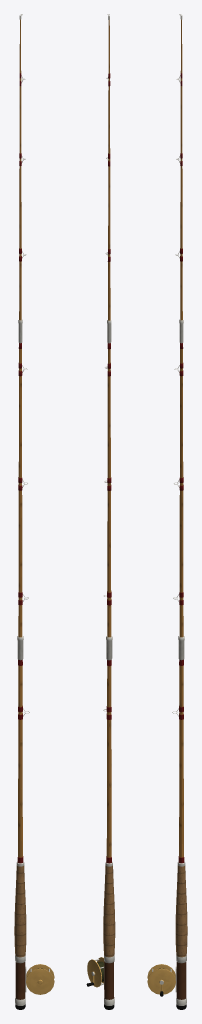
The model's file is fishing_rod.glb.
3 renders of one model, left to right at view 1: azimuth 90°, elevation 25°; view 2: azimuth 210°, elevation 25°; view 3: azimuth 270°, elevation 25°, orthographic.
Parts seen in each view (by area): view 1: Rod_Seg0_mesh, Rod_Reel_mesh, Rod_Seg1_mesh, Rod_Seg2_mesh, Rod_Seg4_mesh, Rod_Seg3_mesh, Rod_Seg5_mesh, Rod_Seg6_mesh, Rod_Seg7_mesh; view 2: Rod_Seg0_mesh, Rod_Seg1_mesh, Rod_Seg2_mesh, Rod_Seg3_mesh, Rod_Reel_mesh, Rod_Seg4_mesh, Rod_Seg5_mesh, Rod_Seg6_mesh, Rod_Seg7_mesh; view 3: Rod_Seg0_mesh, Rod_Reel_mesh, Rod_Seg1_mesh, Rod_Seg2_mesh, Rod_Seg4_mesh, Rod_Seg3_mesh, Rod_Seg5_mesh, Rod_Seg6_mesh, Rod_Seg7_mesh.
Part boxes in pixels (left/top/right/bottom): Rod_Seg0_mesh: left=14, top=713, right=26, bottom=1009; Rod_Reel_mesh: left=25, top=964, right=54, bottom=994; Rod_Seg1_mesh: left=17, top=598, right=29, bottom=719; Rod_Seg2_mesh: left=18, top=484, right=28, bottom=605; Rod_Seg4_mesh: left=18, top=255, right=27, bottom=376; Rod_Seg3_mesh: left=18, top=369, right=27, bottom=490; Rod_Seg5_mesh: left=19, top=159, right=26, bottom=261; Rod_Seg6_mesh: left=19, top=79, right=25, bottom=165; Rod_Seg7_mesh: left=19, top=14, right=25, bottom=85; Rod_Seg0_mesh: left=103, top=713, right=115, bottom=1009; Rod_Seg1_mesh: left=103, top=599, right=112, bottom=719; Rod_Seg2_mesh: left=104, top=484, right=111, bottom=605; Rod_Seg3_mesh: left=104, top=370, right=111, bottom=490; Rod_Reel_mesh: left=87, top=957, right=104, bottom=989; Rod_Seg4_mesh: left=105, top=255, right=111, bottom=376; Rod_Seg5_mesh: left=105, top=160, right=110, bottom=261; Rod_Seg6_mesh: left=106, top=80, right=110, bottom=166; Rod_Seg7_mesh: left=106, top=14, right=110, bottom=86; Rod_Seg0_mesh: left=175, top=713, right=187, bottom=1009; Rod_Reel_mesh: left=147, top=964, right=176, bottom=994; Rod_Seg1_mesh: left=172, top=598, right=184, bottom=719; Rod_Seg2_mesh: left=173, top=484, right=183, bottom=605; Rod_Seg4_mesh: left=174, top=255, right=183, bottom=376; Rod_Seg3_mesh: left=174, top=369, right=183, bottom=490; Rod_Seg5_mesh: left=175, top=159, right=182, bottom=261; Rod_Seg6_mesh: left=176, top=79, right=182, bottom=165; Rod_Seg7_mesh: left=176, top=14, right=182, bottom=85.
Bounding box in the file's own units: 0.0485 × 2.61 × 0.0953.
1 material, 1 textured.
